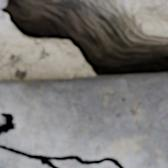brick: (0, 74, 167, 167)
broken_brick: (0, 0, 5, 6)
crack: (0, 0, 167, 77)
